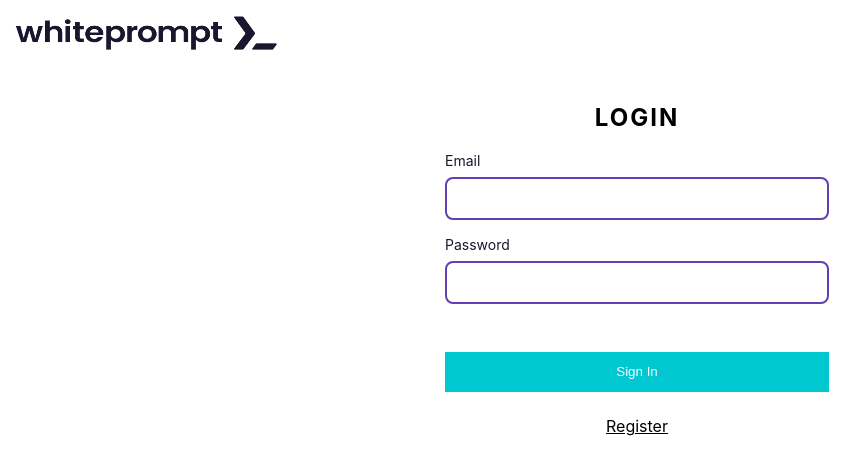
Test case: LoginPage › should show error message if the login credentials are wrong and request fails
Type "user@test.com" into the field with test id "text-field-email".
click(637, 198); type("user@test.com")  # box [445,177,829,220]
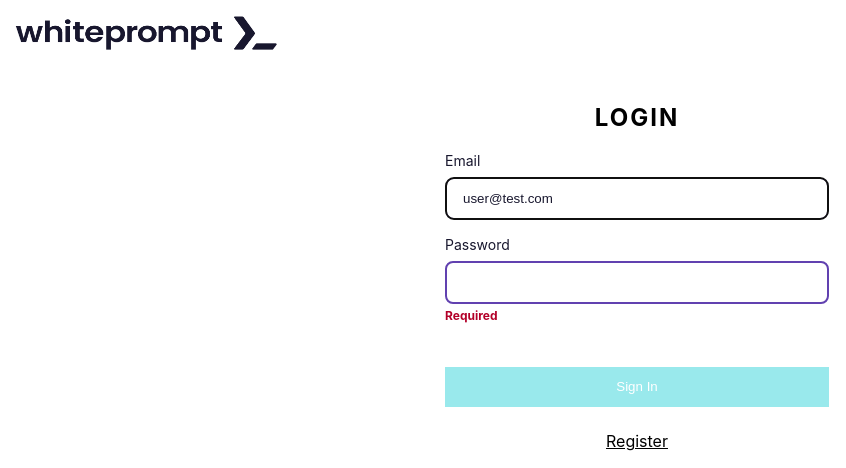
Type "Test1234" into the password field with test id "text-field-password".
click(637, 282); type("Test1234")  # box [445,261,829,304]
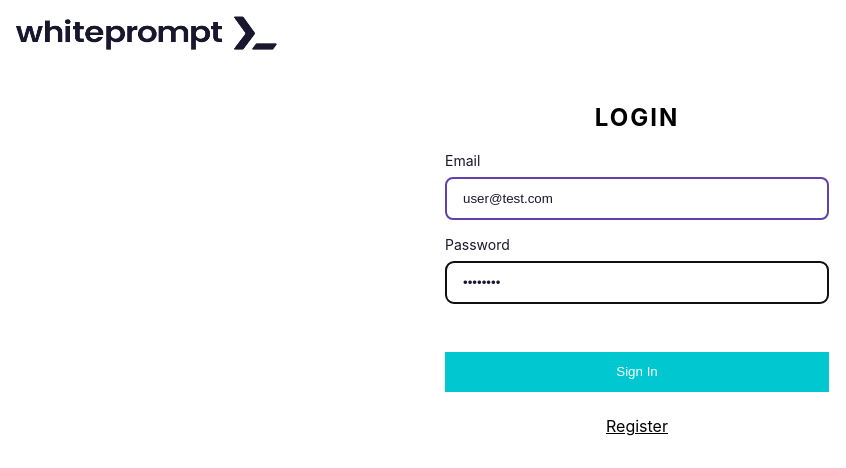
Click the button with test id "button-submit-login".
click(637, 372)  # box [445,352,829,392]
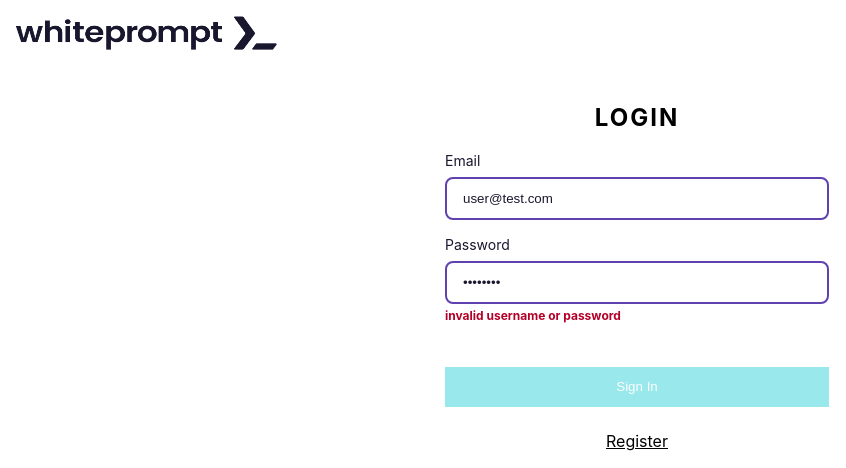
Now the text "invalid username or password" is shown, box [445,308,621,323]
